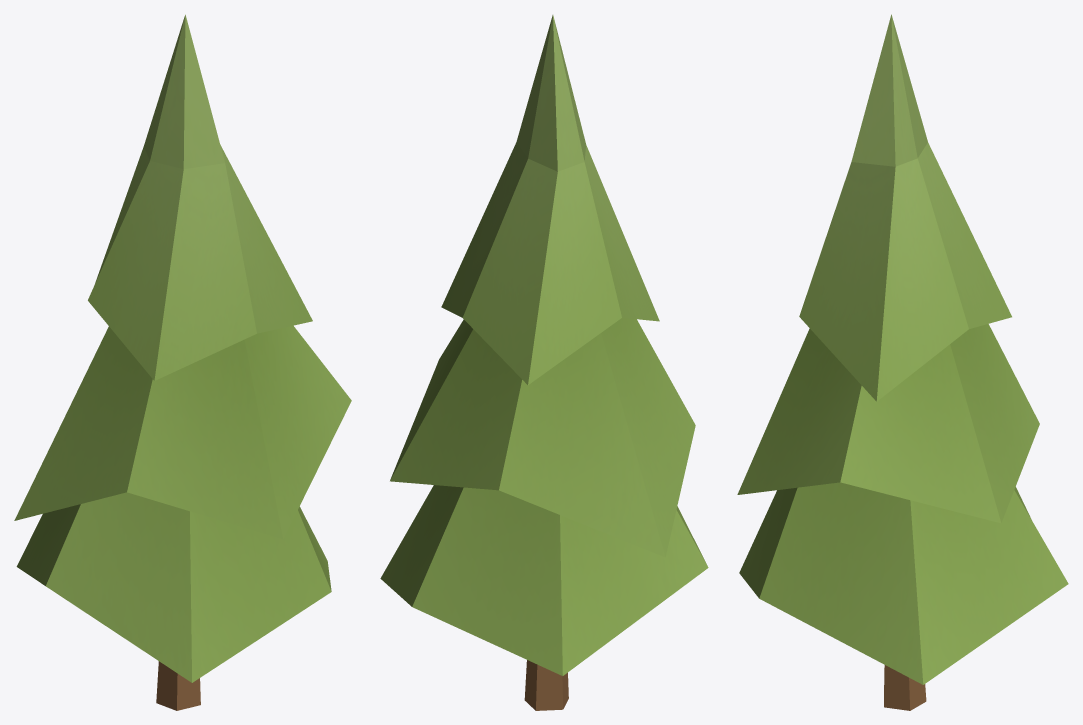
The model's file is Pine_Tree_s_02_LOD.fbx.
3 views of the same model, side by side, from view 1: azimuth 30°, elevation 25°; view 2: azimuth 150°, elevation 25°; view 3: azimuth 270°, elevation 25° (orthographic).
Visible parts, largest first — view 1: Pine_Tree_s_02_LOD0; view 2: Pine_Tree_s_02_LOD0; view 3: Pine_Tree_s_02_LOD0.
Part boxes in pixels (left/top/right/bottom): Pine_Tree_s_02_LOD0: left=14, top=14, right=351, bottom=710; Pine_Tree_s_02_LOD0: left=380, top=15, right=708, bottom=710; Pine_Tree_s_02_LOD0: left=737, top=14, right=1068, bottom=710.
Size of what is drawn, in the model's own units: 159 by 342 by 149.
